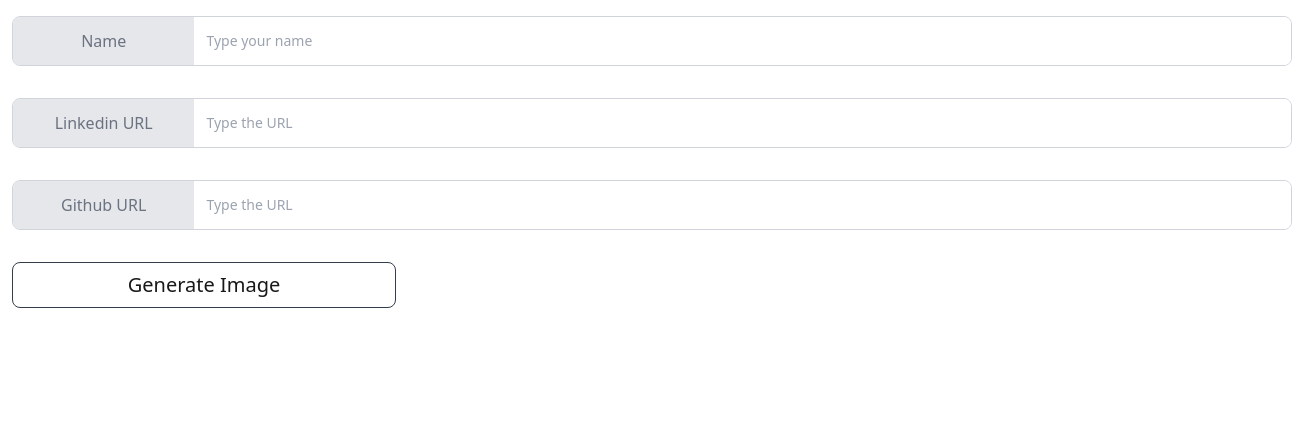
Form › should handle input errors
Click the button "Generate Image". click: (204, 285)
box: x1=12 y1=262 x2=396 y2=308
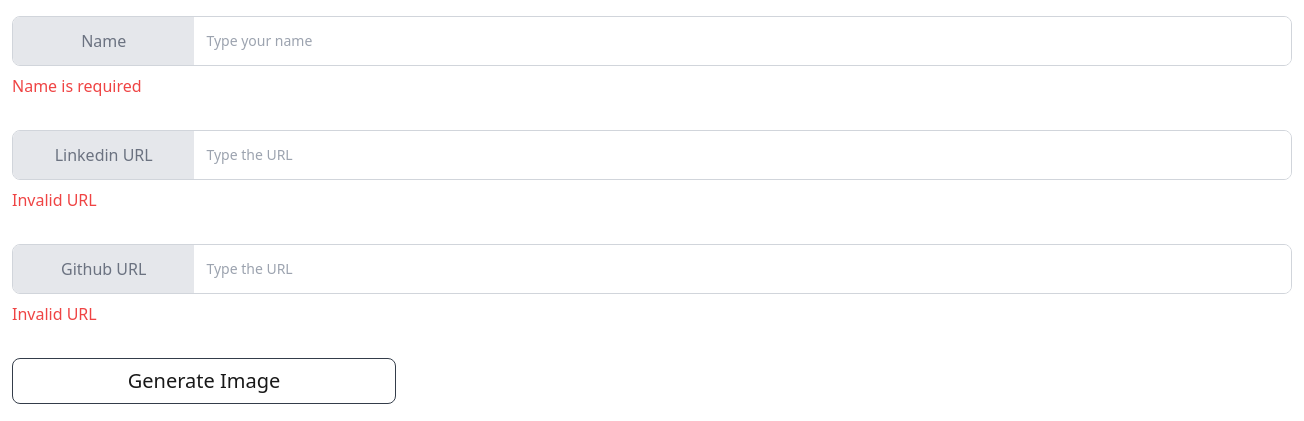
Result: the text "Name is required" is shown at x1=12 y1=75 x2=142 y2=97
Result: the text "Invalid URL" is shown 2 times at x1=12 y1=189 x2=97 y2=211; x1=12 y1=303 x2=97 y2=325
